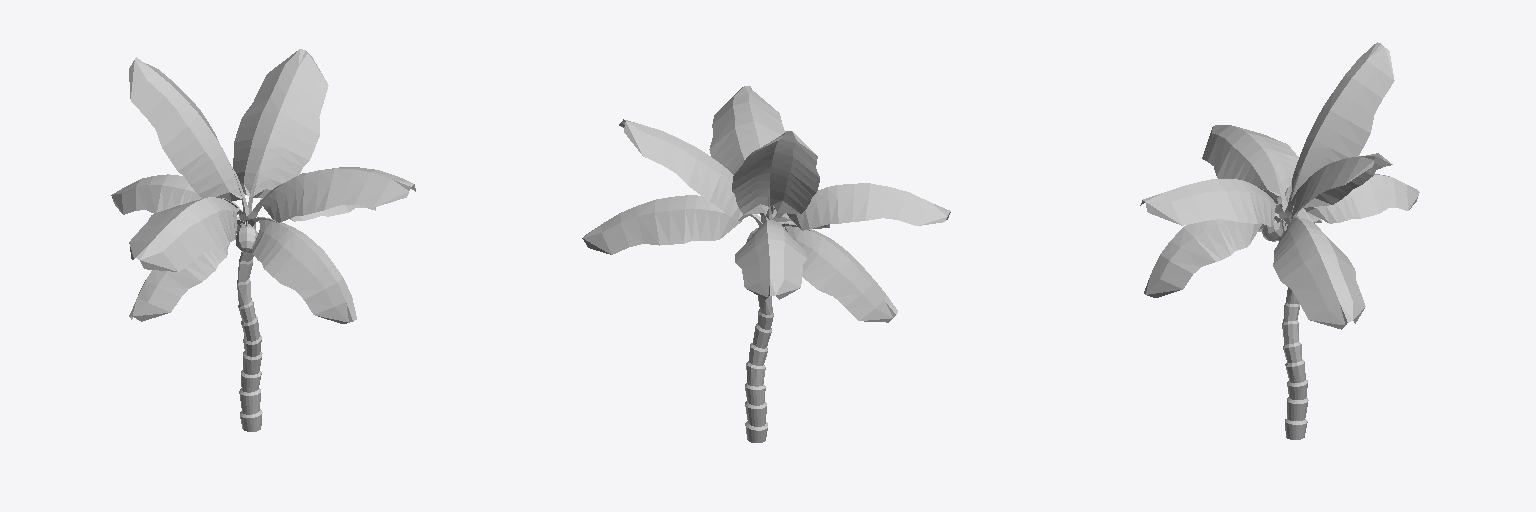
Rendered from coconut palm 04.obj.
3 views of the same model, side by side, from view 1: azimuth 30°, elevation 25°; view 2: azimuth 150°, elevation 25°; view 3: azimuth 270°, elevation 25° (orthographic).
Visible parts, largest first — view 1: tree; view 2: tree; view 3: tree.
Part boxes in pixels (x1,y1,x2,y2): tree: (111, 49, 415, 431); tree: (582, 86, 950, 442); tree: (1140, 42, 1419, 439).
Size of the model in its own units: 369 by 416 by 295.